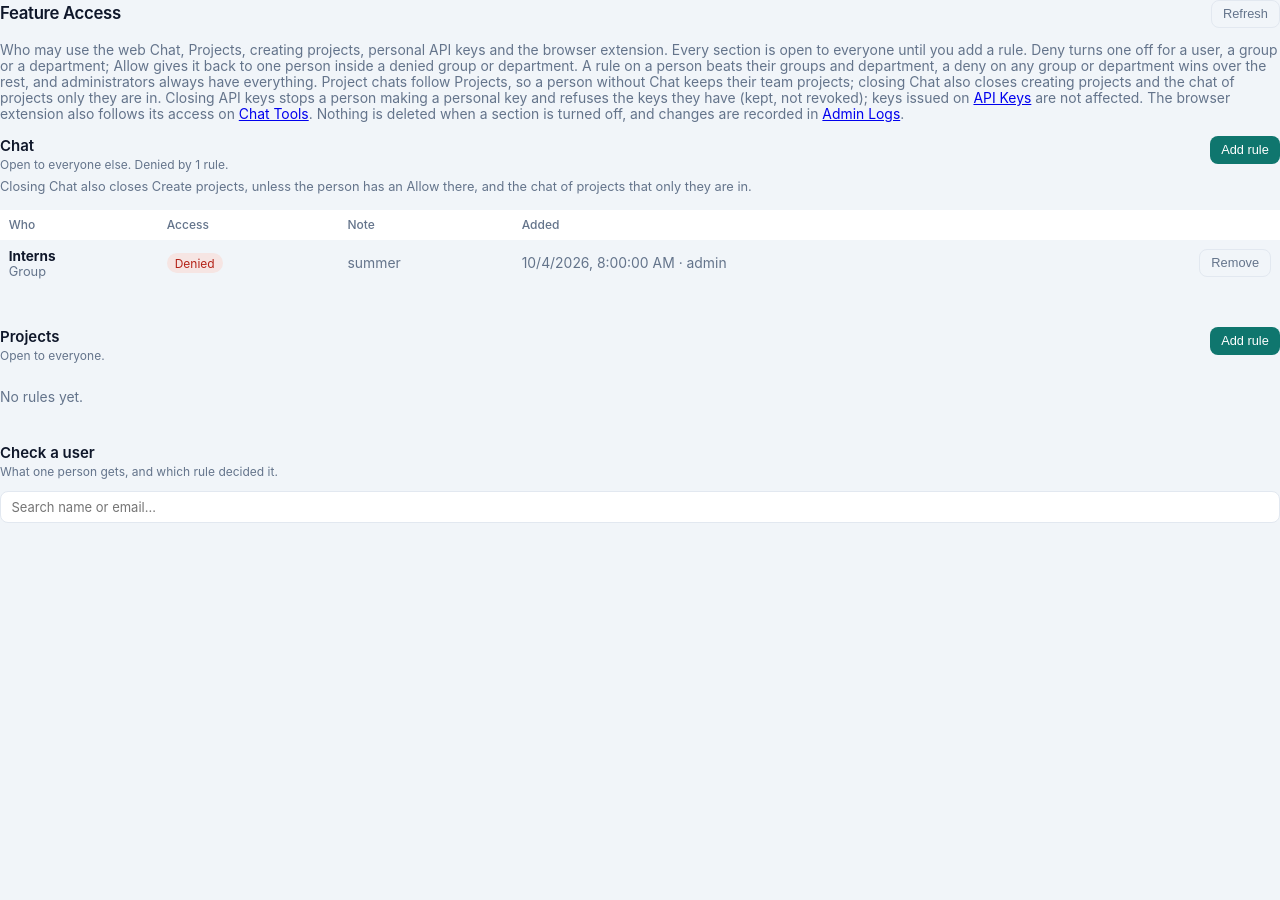
Test case: the Feature Access page › removes a rule after asking
Click the button "Remove".
click(1235, 263)  # box [1199, 249, 1271, 277]
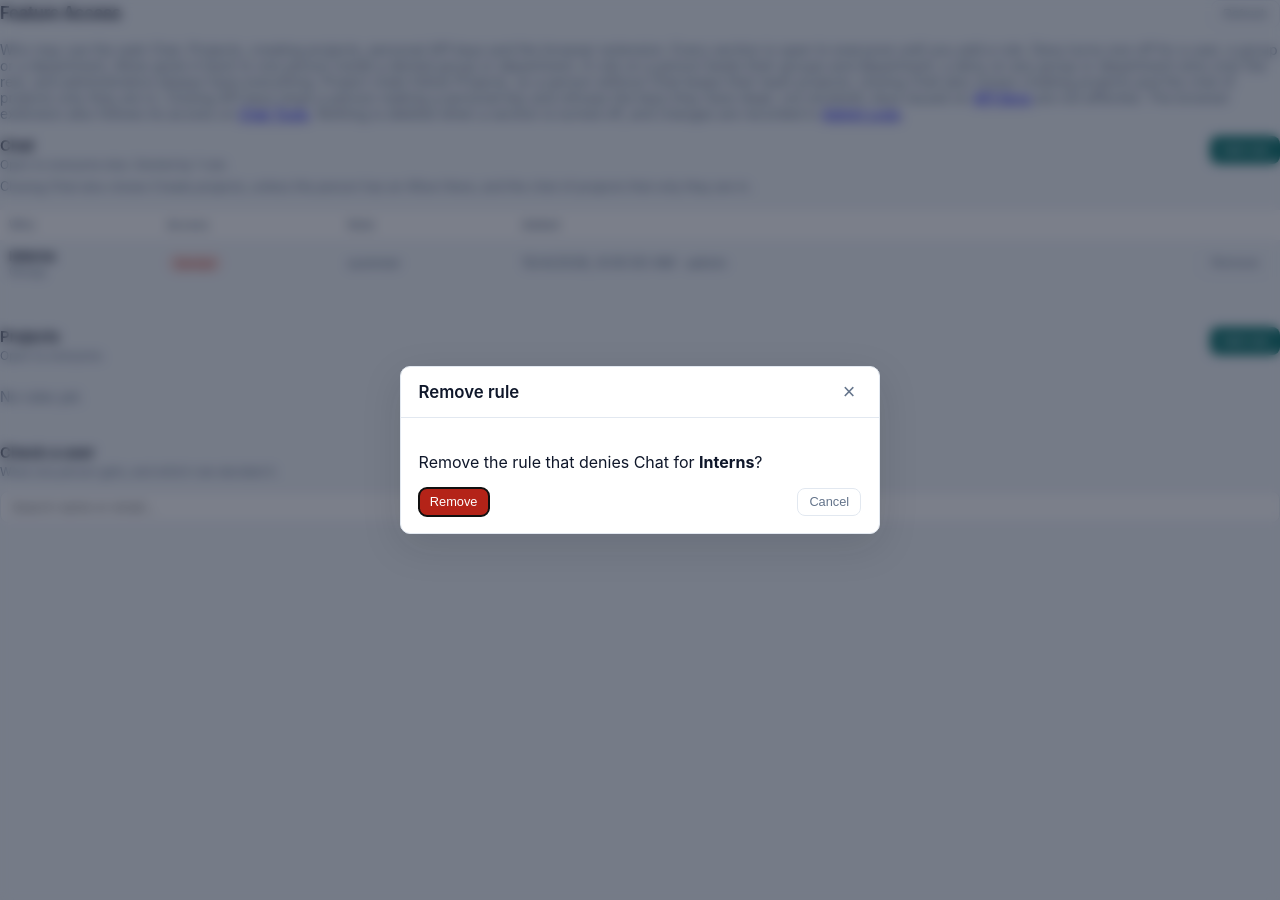
Result: the text "Remove the rule that denies Chat for" is shown at [419, 452, 763, 472]
Click the button with class "btn-danger".
click(454, 502)  # box [419, 488, 489, 516]
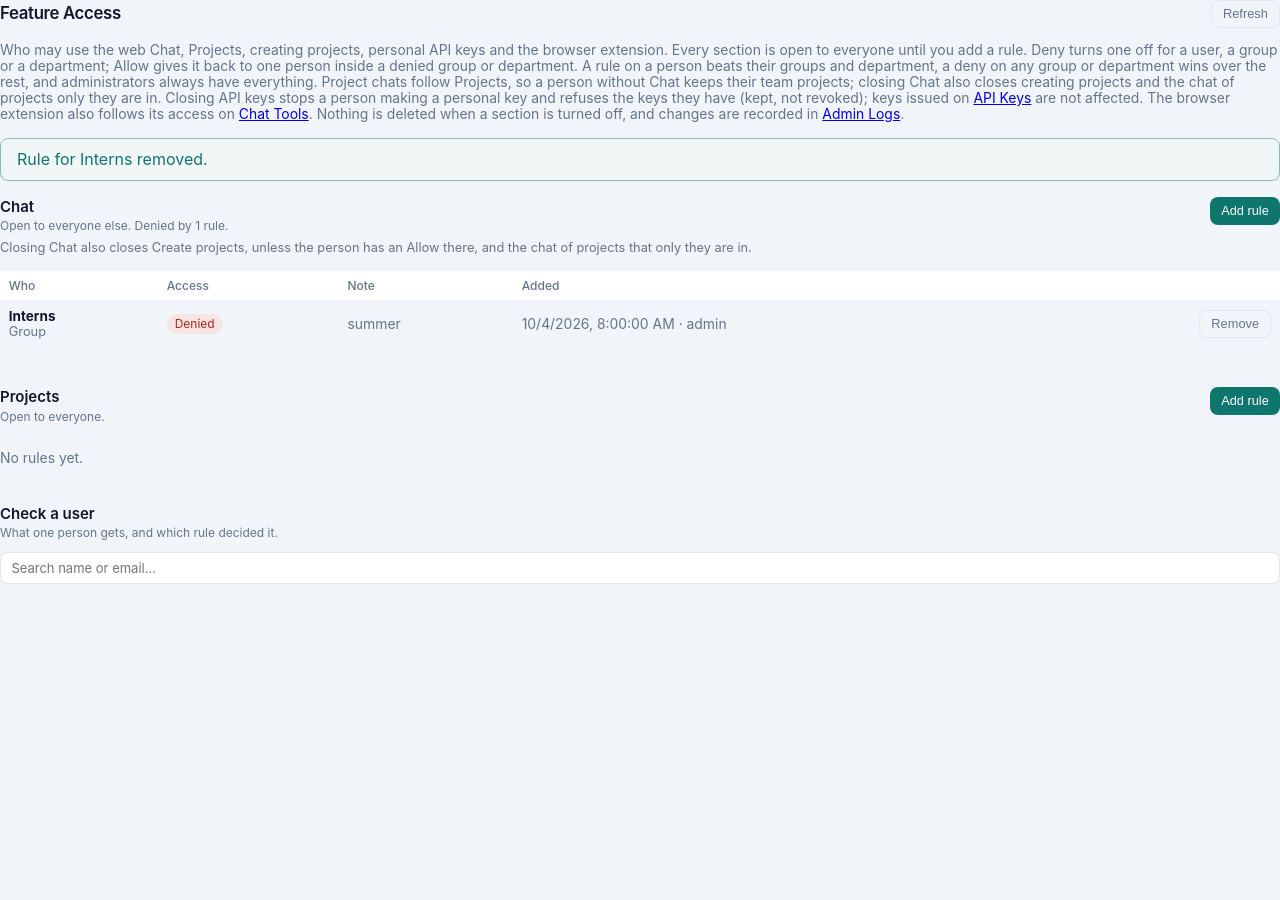
Result: the text "Rule for Interns removed." is shown at [0, 138, 1279, 181]
